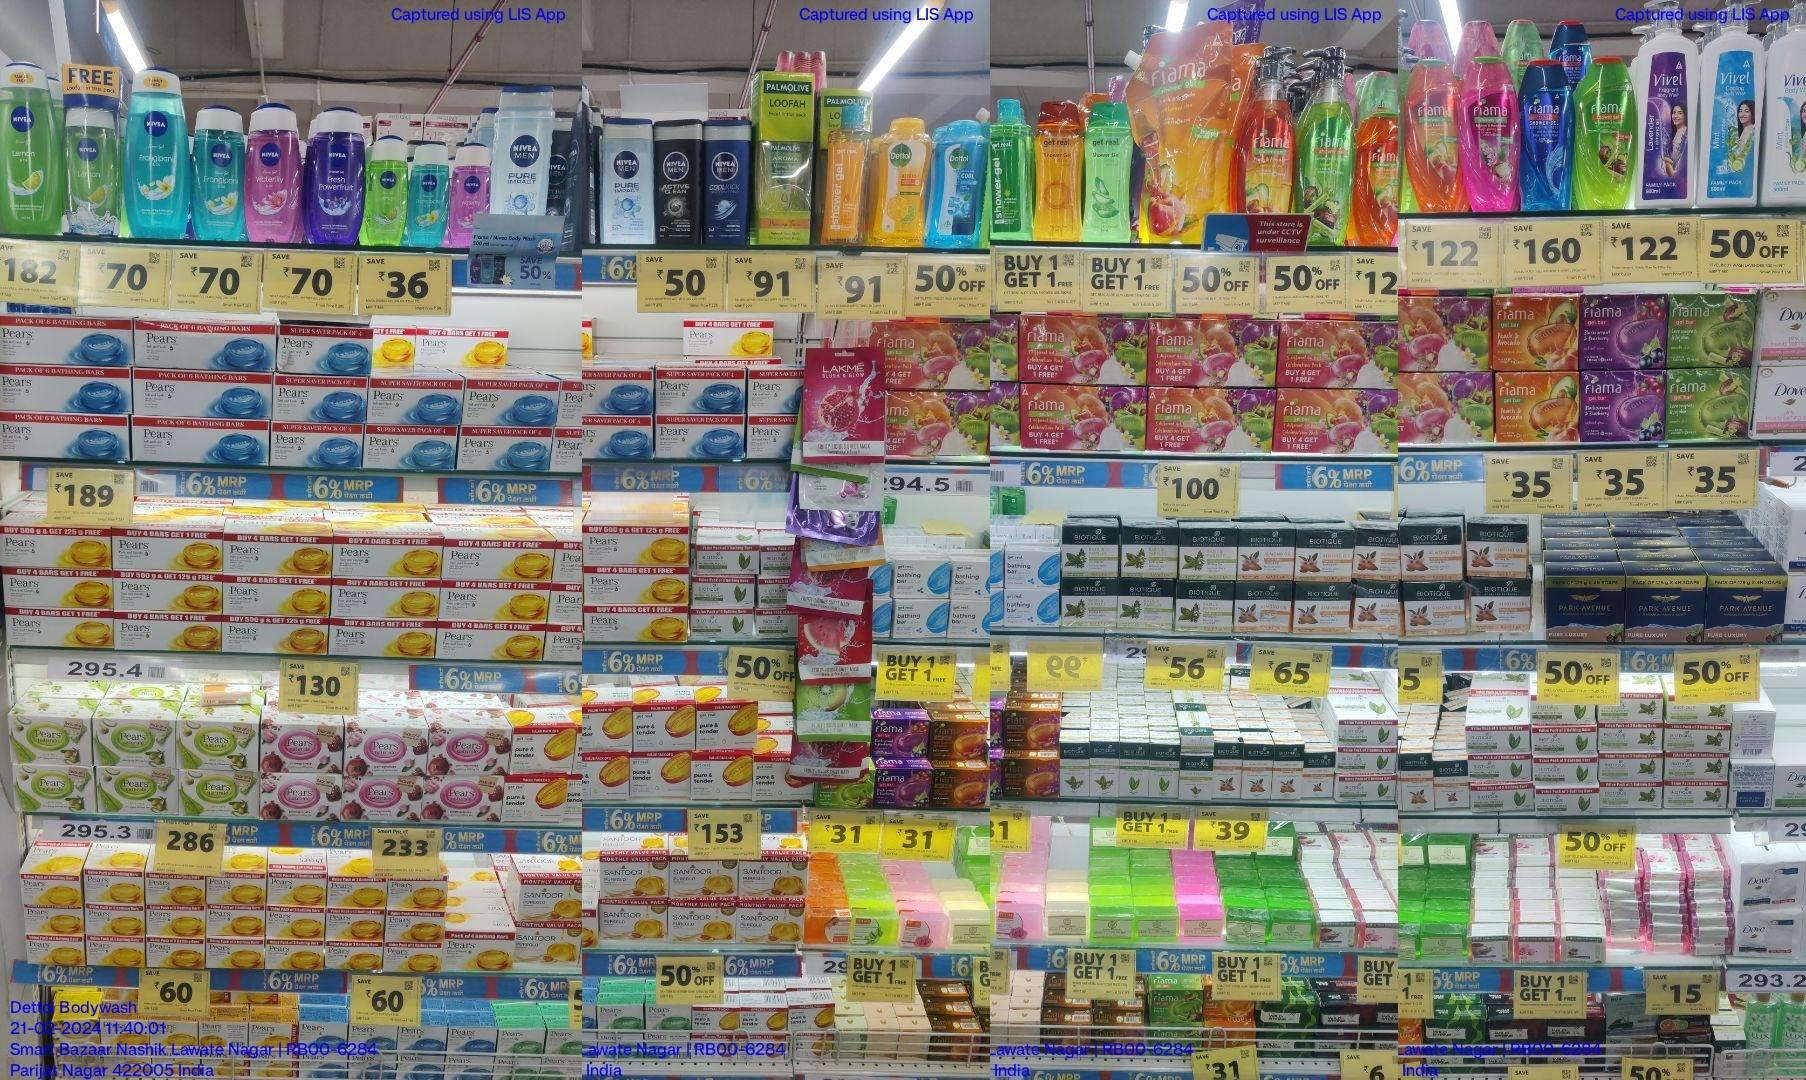Dettol_Bodywash_Cool: (933, 116, 987, 248)
Dettol_Bodywash_Refresh: (872, 116, 932, 244)
Fiama_Shower_Gel_Lemongrass_and_Jojoba_250ML: (1575, 54, 1639, 208)
Fiama_Shower_Gel_Patchouli_and_Macadamia_250ML: (1462, 55, 1515, 211)
Fiama_Shower_Gel_Peach_and_Avocado_250ML: (1402, 57, 1460, 212)
Get_Real_Shower_Gel_Moisturising_Glycerin_300ML: (1032, 96, 1081, 242)
Nivea_Shower_Gel_Frangipani_and_Oil_250ML: (125, 66, 192, 238), (190, 102, 243, 242)
Nivea_Shower_Gel_Fresh_Powerfruit_250ML: (303, 103, 366, 243)
Nivea_Shower_Gel_Lemon_and_Oil_250ML: (0, 62, 60, 234)
Nivea_Shower_Gel_Waterlily_and_Oil_250ML: (243, 99, 303, 243)
